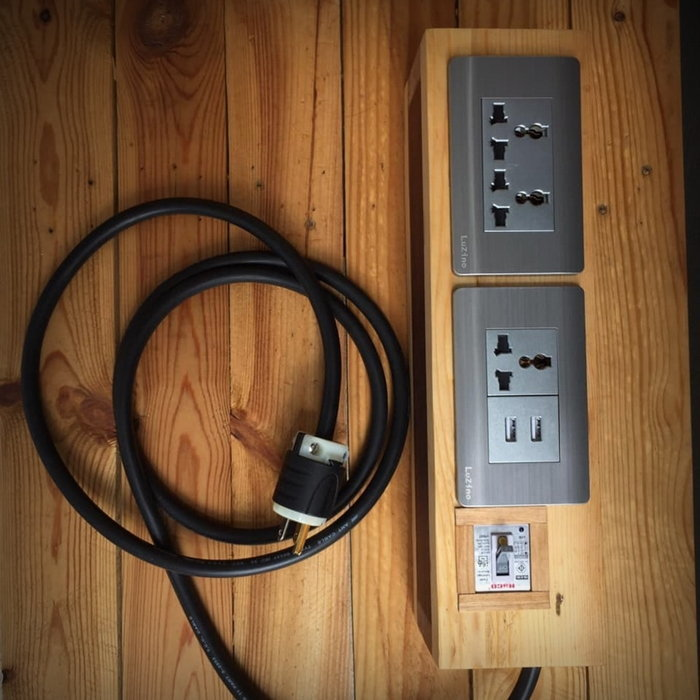Three_eye_plug: (438, 51, 587, 272), (455, 286, 591, 508)
